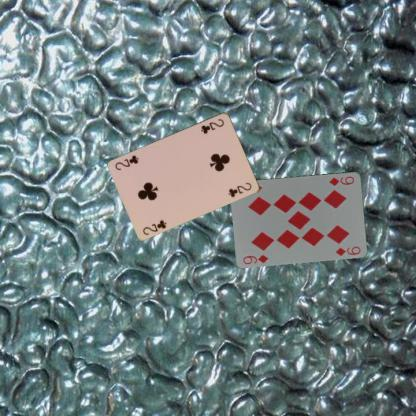2c: (198, 116, 226, 135), (141, 217, 168, 236)
9d: (326, 173, 356, 187), (241, 252, 270, 265)
